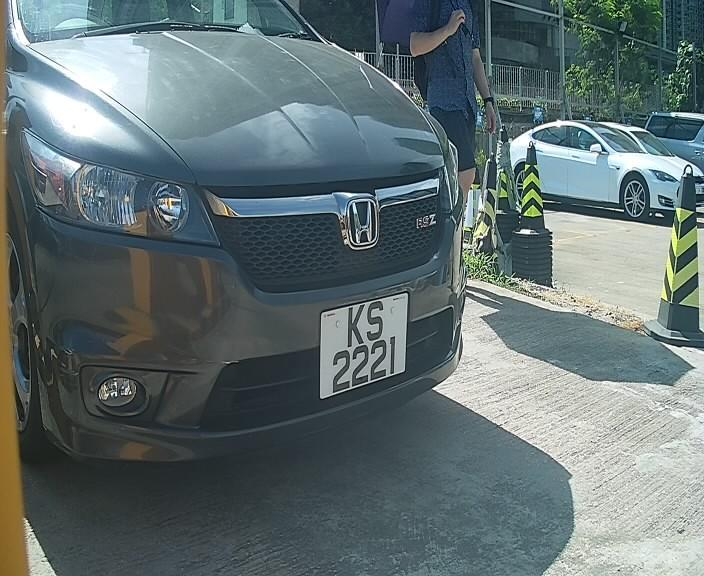privatecar: (16, 26, 494, 476)
